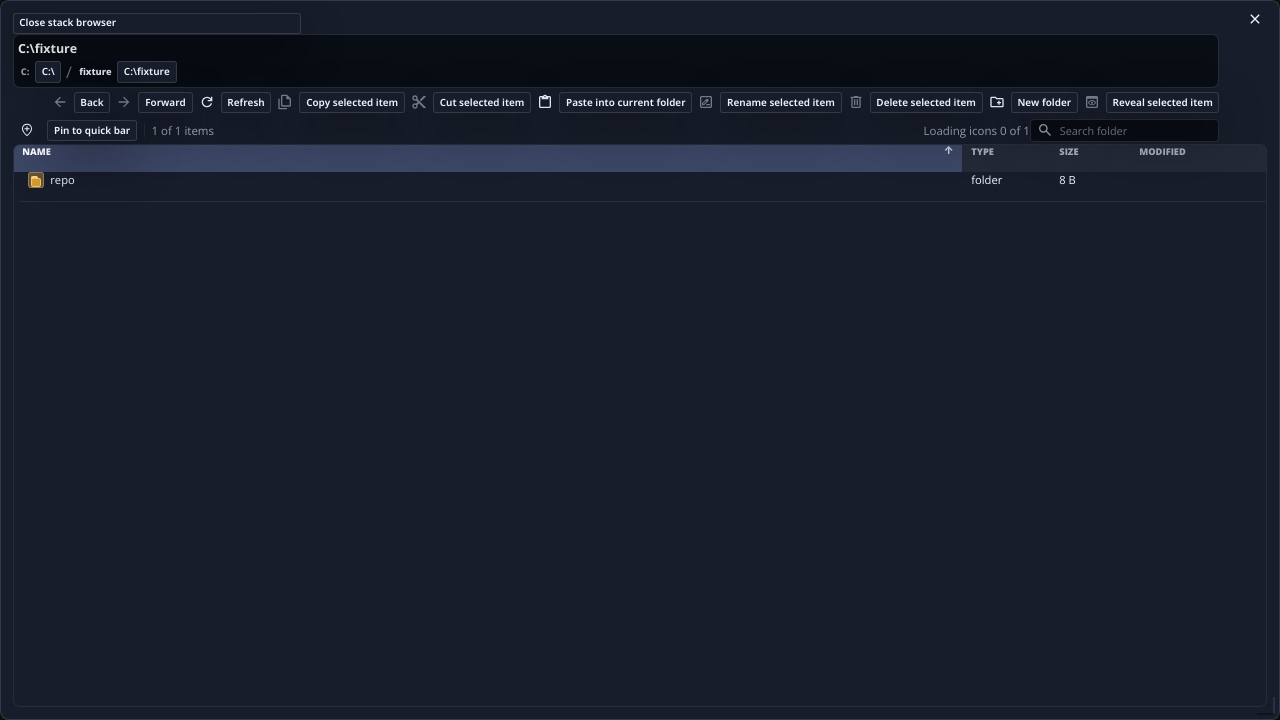
operation indeterminate takes priority over listing/icons and retains progress semantics
Check: the text "repo" is shown, box [50,172,75,188]
Check: the message with class "stack-status" shows "1 of 1 items", box [151,123,214,138]
Step 1. Click the button named "Paste into current folder" → (545, 102), box [531,88,559,116]
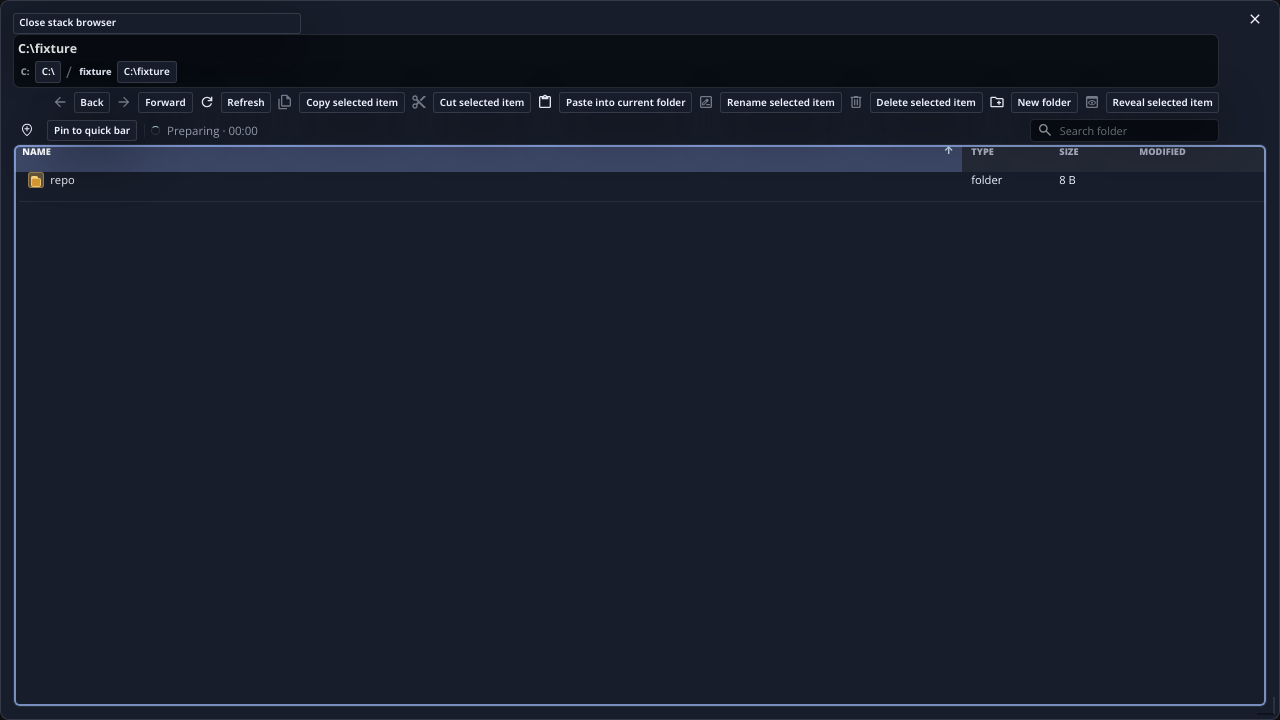
Check: the message with class "stack-status" shows "Preparing ·", box [167,123,258,138]
Check: the text with class "stack-status" no longer shows "of 1 items"
Check: the text with class "stack-status" no longer shows "Loading icons"
